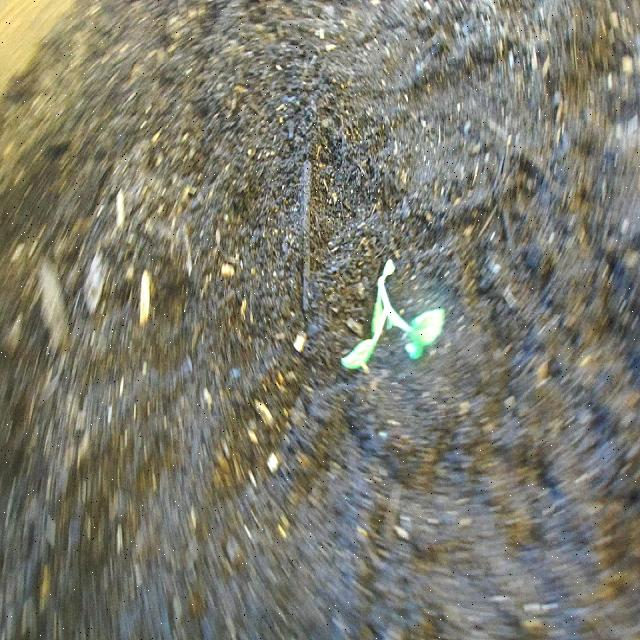Healthy: (336, 215, 455, 407)
